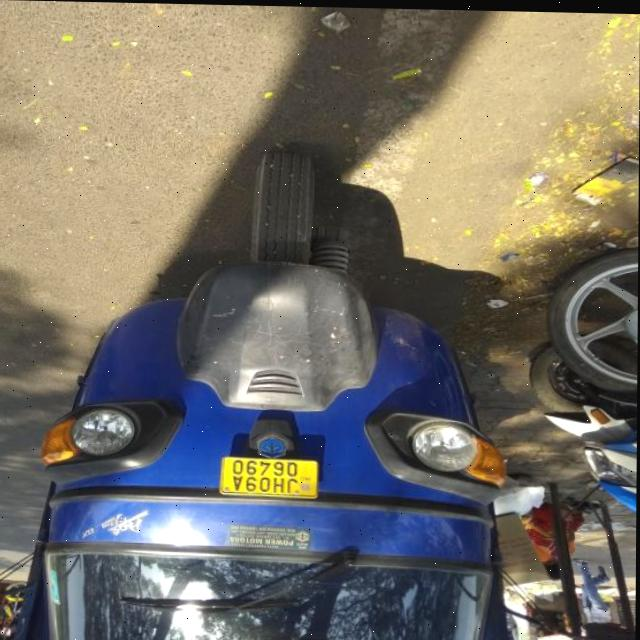plate: (221, 455, 321, 499)
